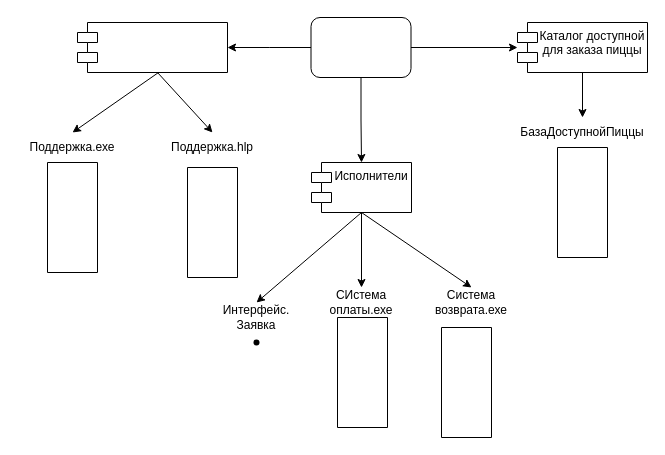
The diagram is 665 pixels wide and 455 high, and some of its shapes have lost their labels. Here are the shapes that lost their labels. From the top down, the box of each, then its label:
(76, 22, 228, 72): тех.поддержка
(310, 16, 411, 78): Заказ пиццы
